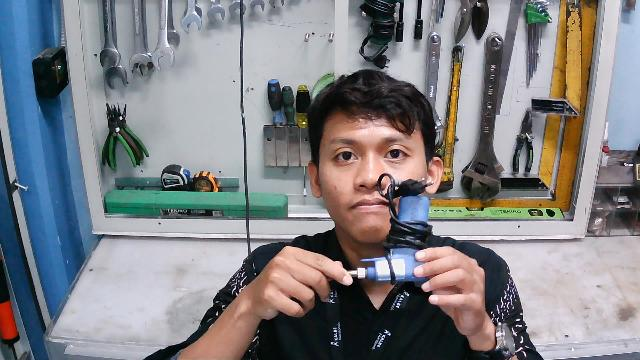solder_electrical: (307, 172, 438, 288)
